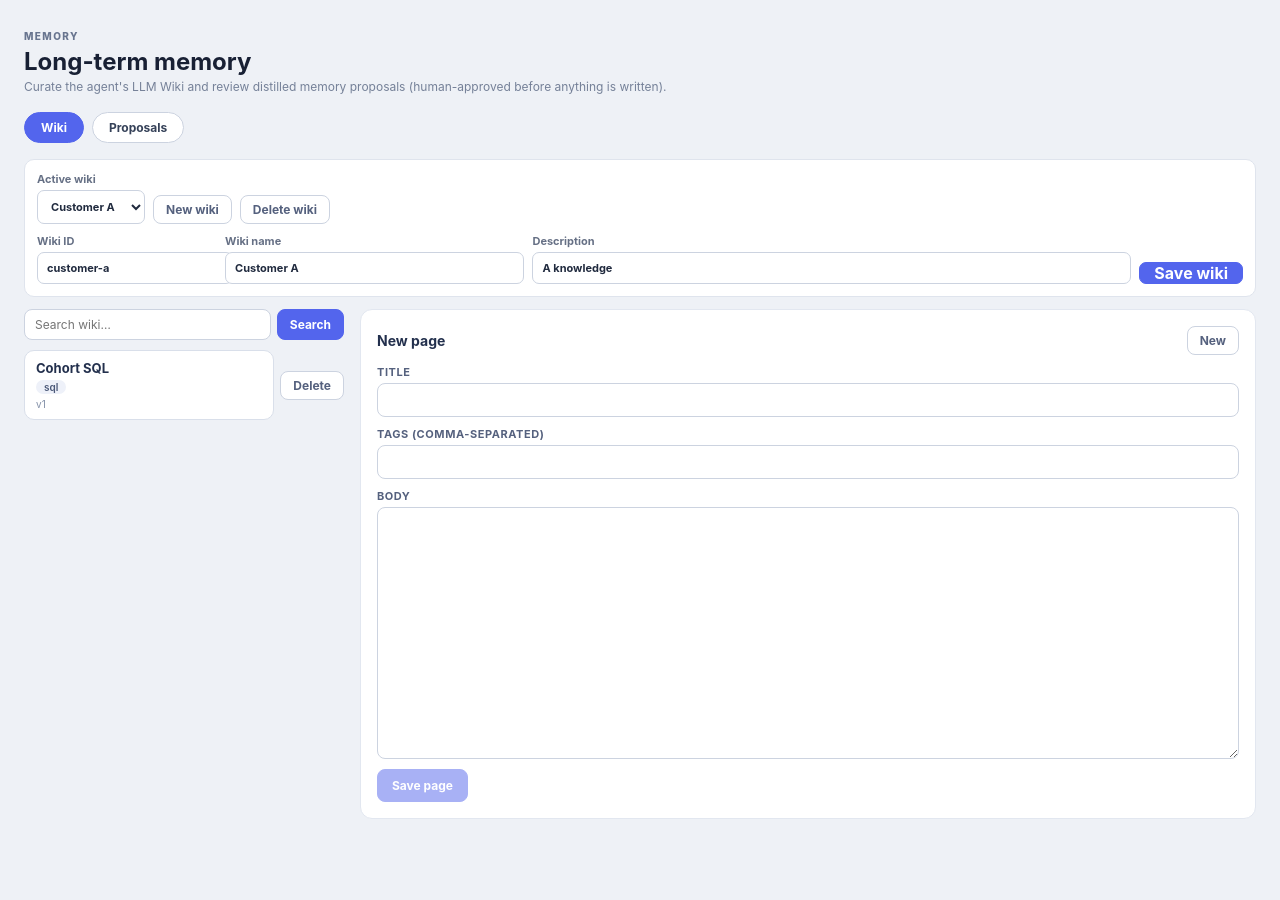
Test: MemoryPage › ページのDeleteでdeleteWikiを呼び、一覧を再取得する
The width and height of the screenshot is (1280, 900).
Expected: the button "Cohort SQL sql v1" is shown, [24,350,274,420]
Click the button "Delete". click: (312,385)
box: [280,370,344,400]
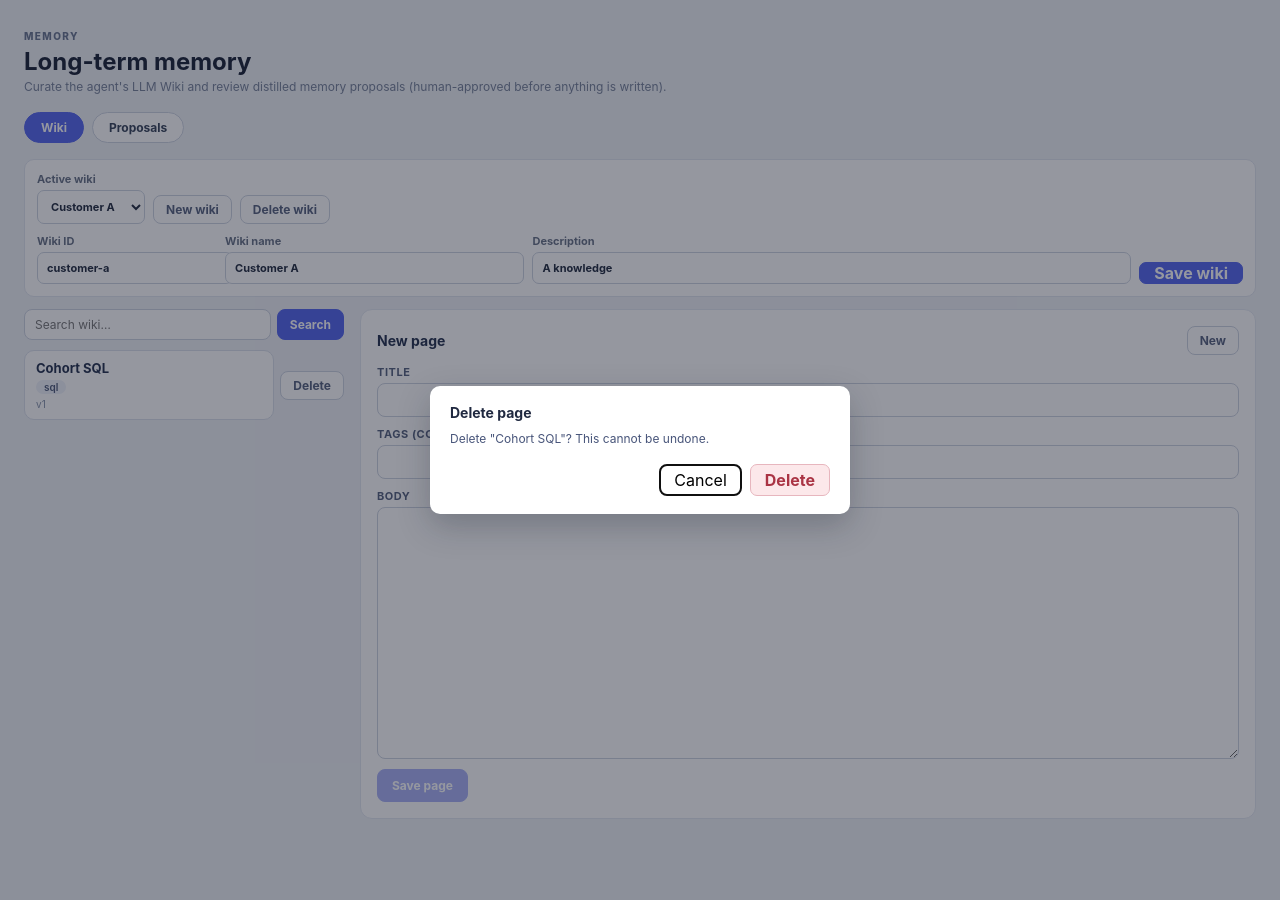
Now the dialog shows "Cohort SQL", box [450,431,709,446]
Click the button "Delete". click: (790,480)
box: [750,464,830,496]
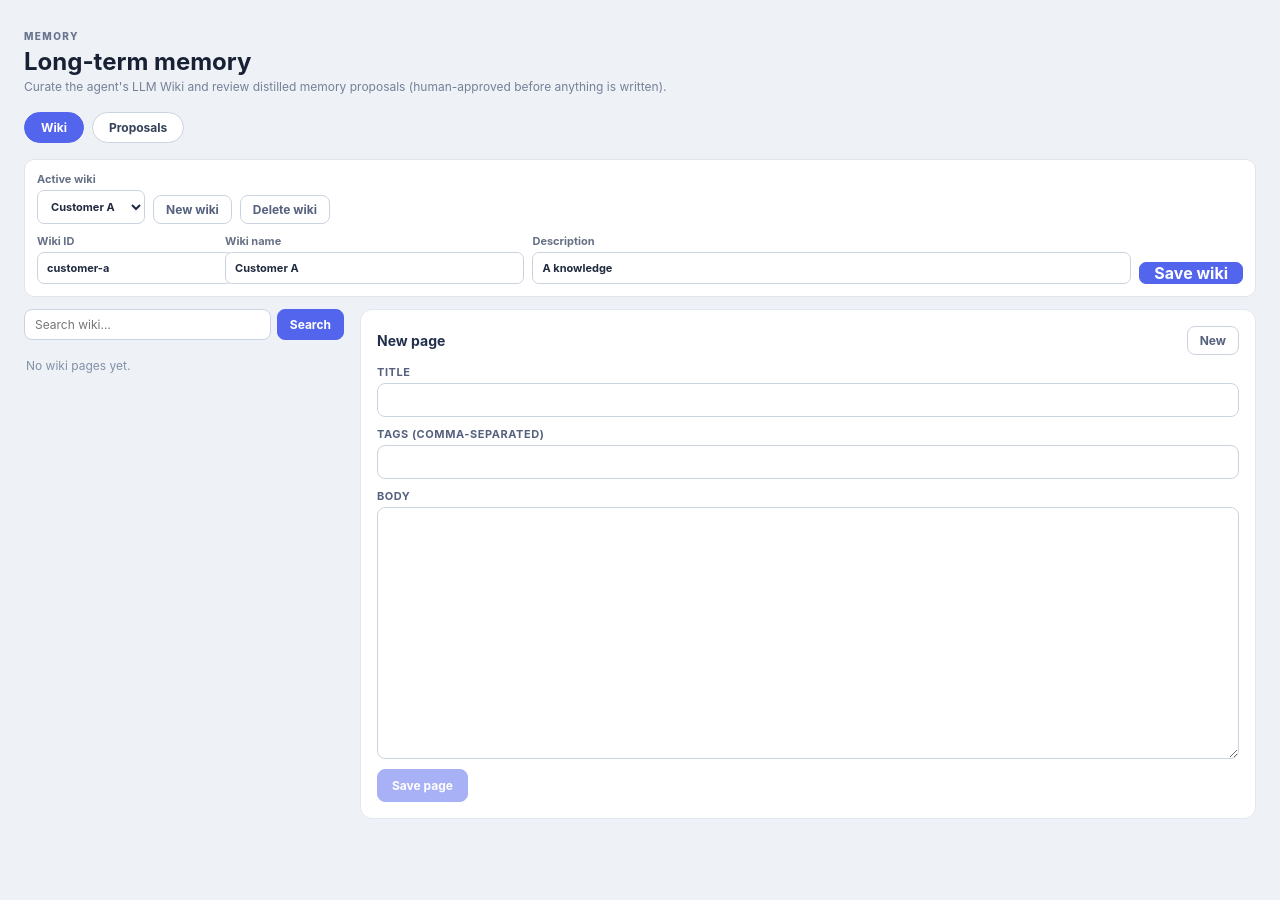
Now the list item "No wiki pages yet." is shown, box [26,358,130,373]
